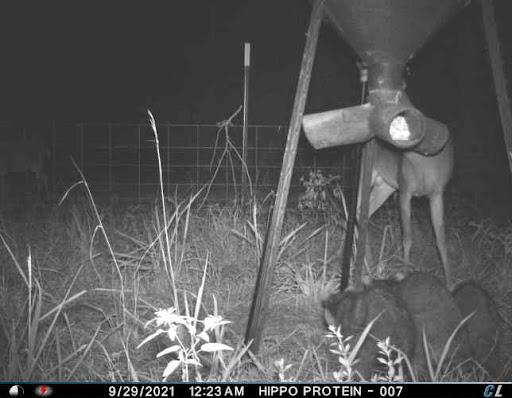Deer: (349, 97, 466, 293)
